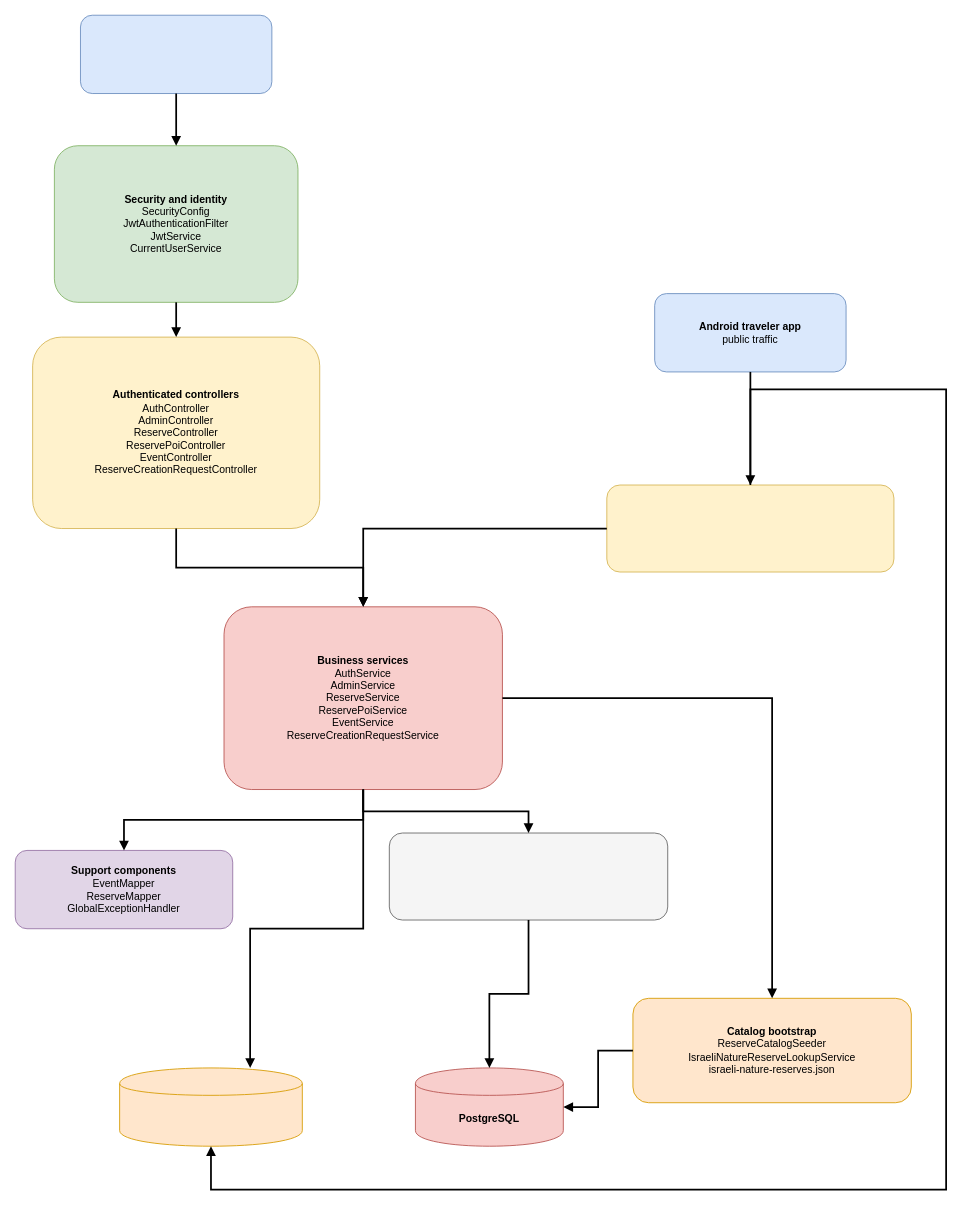
The diagram is 969 pixels wide and 1213 high, and some of its shapes have lost their labels. The shapes that lost their labels are listed below. From the top down, each one's centre as x and y in pixels, then its label:
[176,54]: Web app admin and manager traffic
[750,528]: Public traveler controller PublicTravelerController
[528,876]: Repositories User / Reserve / Event / EventLog Reserve request / POI / POI type
[210,1106]: uploads/traveler-media
